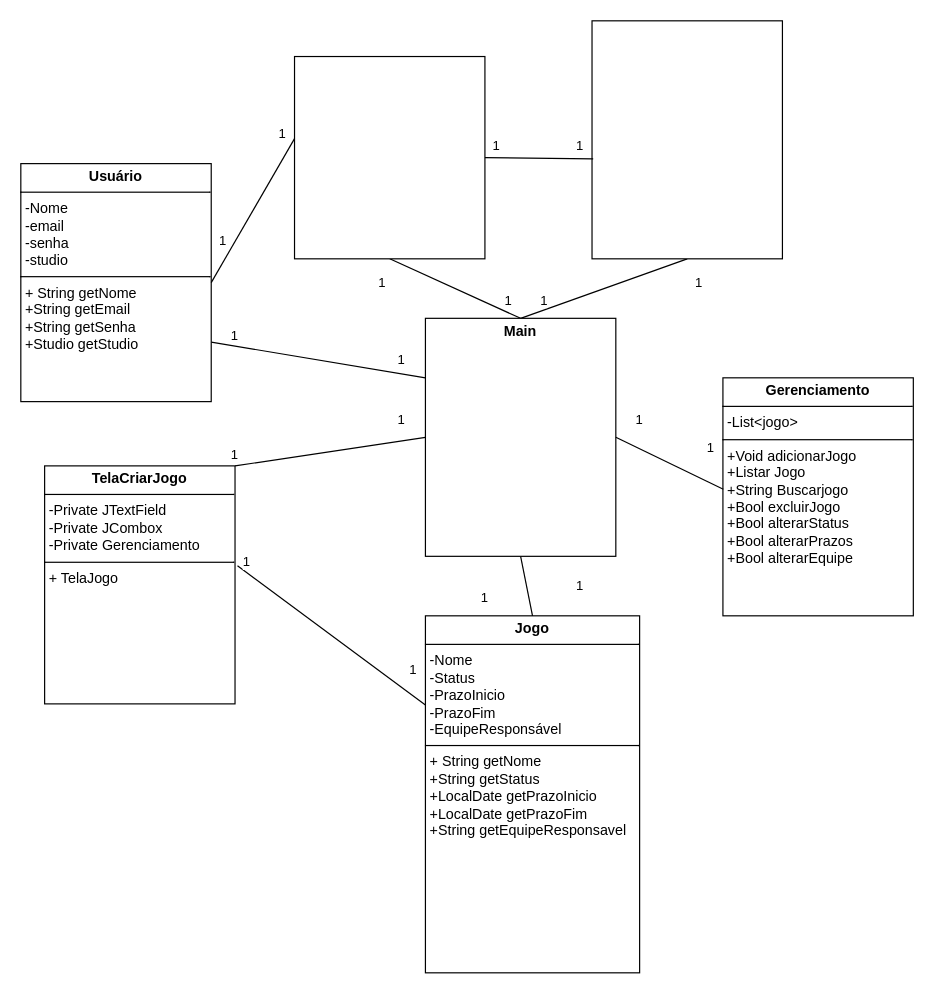
This 934x994 diagram has some shape labels left out. Here are the shapes that lost their labels. From the top down, the centre of each, then its label:
At [389,157]: "Studio -nome -membros +membros".
At [686,139]: "TelaPrincipalEstudio -Private Studio estudioAtual + TelaPrincipal".
